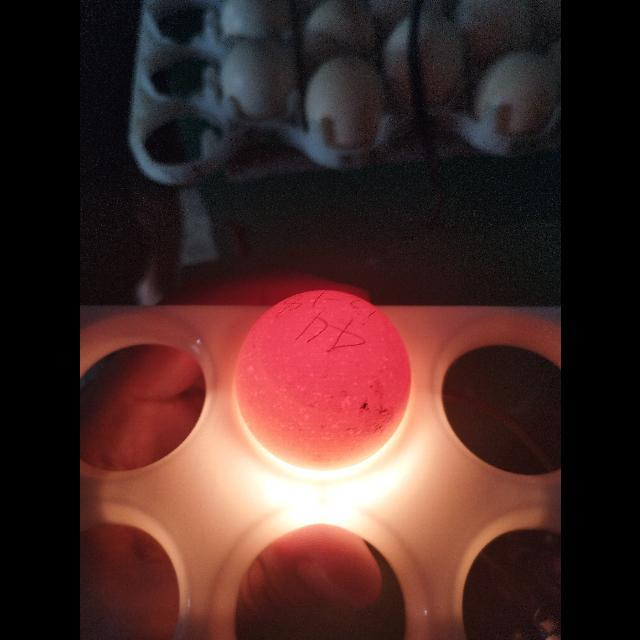Infertile: (230, 288, 416, 472)
